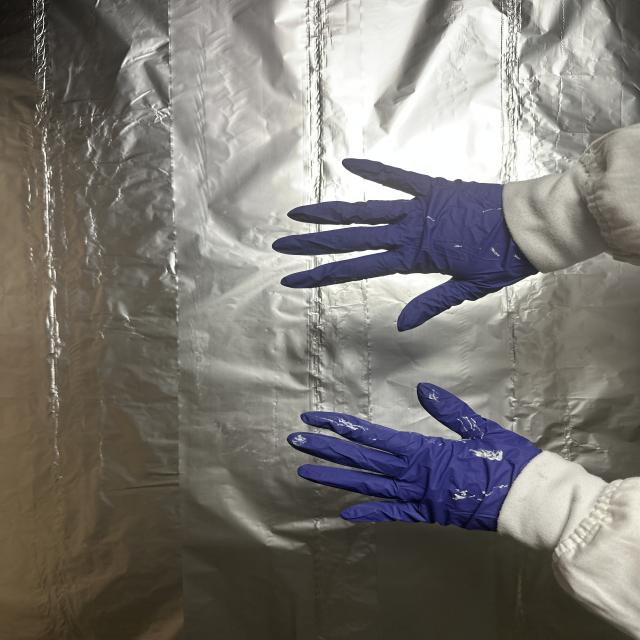gloves_contaminated: (273, 160, 537, 331), (288, 383, 542, 531)
